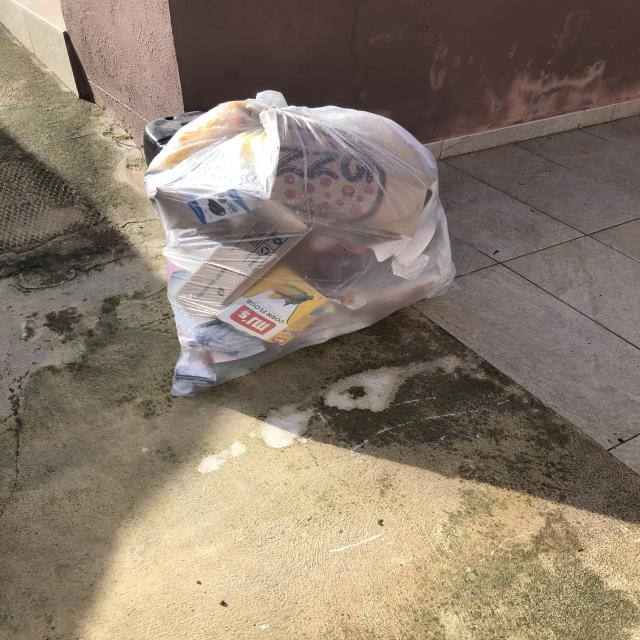Organic Waste -White Bag-: (147, 103, 455, 400)
